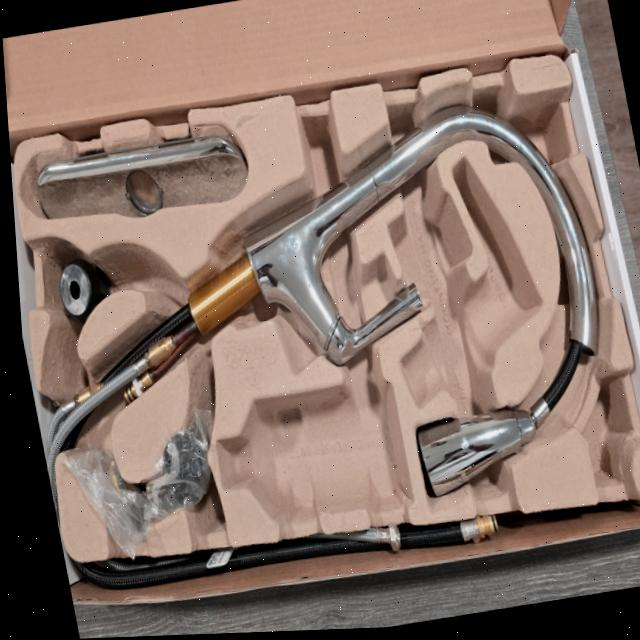1: (46, 102, 599, 495)
2m: (399, 155, 541, 410)
3m: (216, 381, 413, 522)
4: (38, 136, 246, 217)
5: (56, 259, 107, 325)
6: (58, 449, 149, 559)
7: (142, 404, 212, 526)
